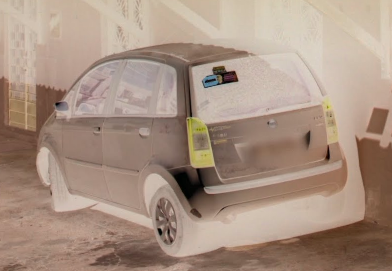car: (36, 37, 354, 241)
